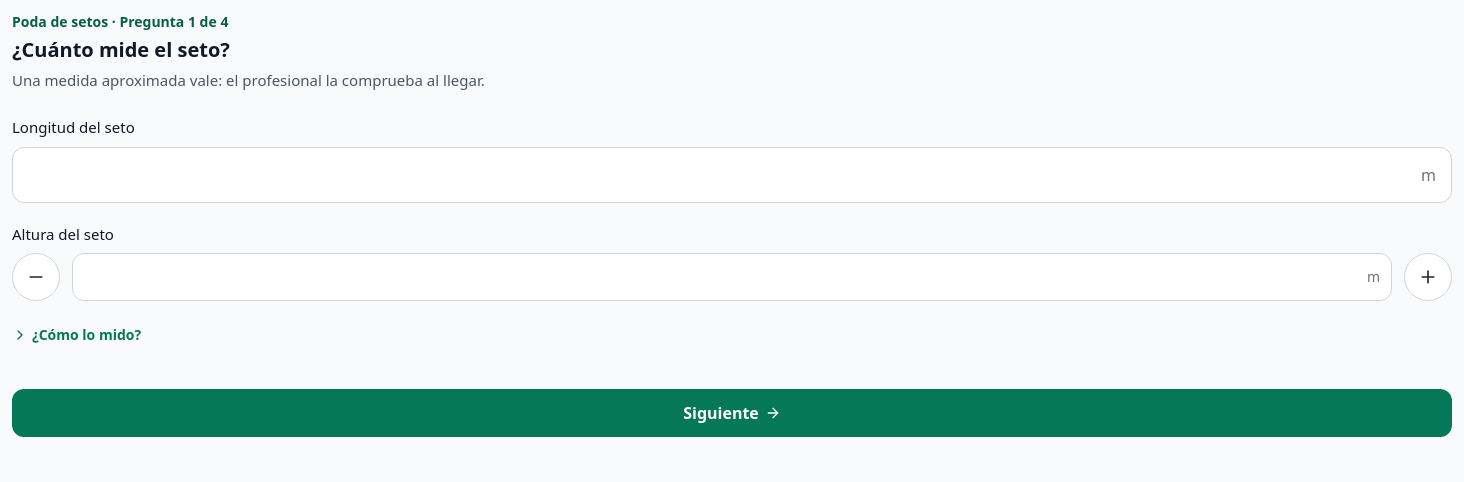
setos · medidas en una pantalla (D-05) › longitud y altura juntas; «Pregunta 1 de 4»; un «Siguiente» emite length y height en orden
Expected: the text "Una medida aproximada vale: el profesional la comprueba al llegar." is shown, [12,70,485,90]
Type "14" into the field labelled "Longitud del seto" at x=732, y=174, box [12,146,1452,202]
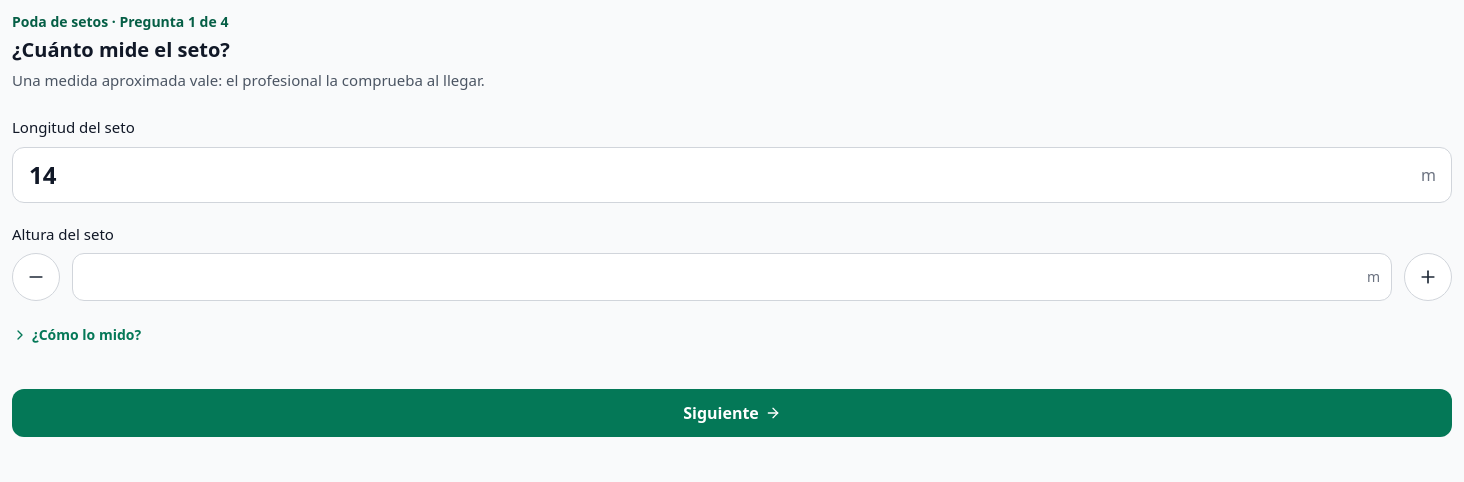
Type "2,1" into the field labelled "Altura del seto" at x=732, y=277, box [72,253,1392,301]
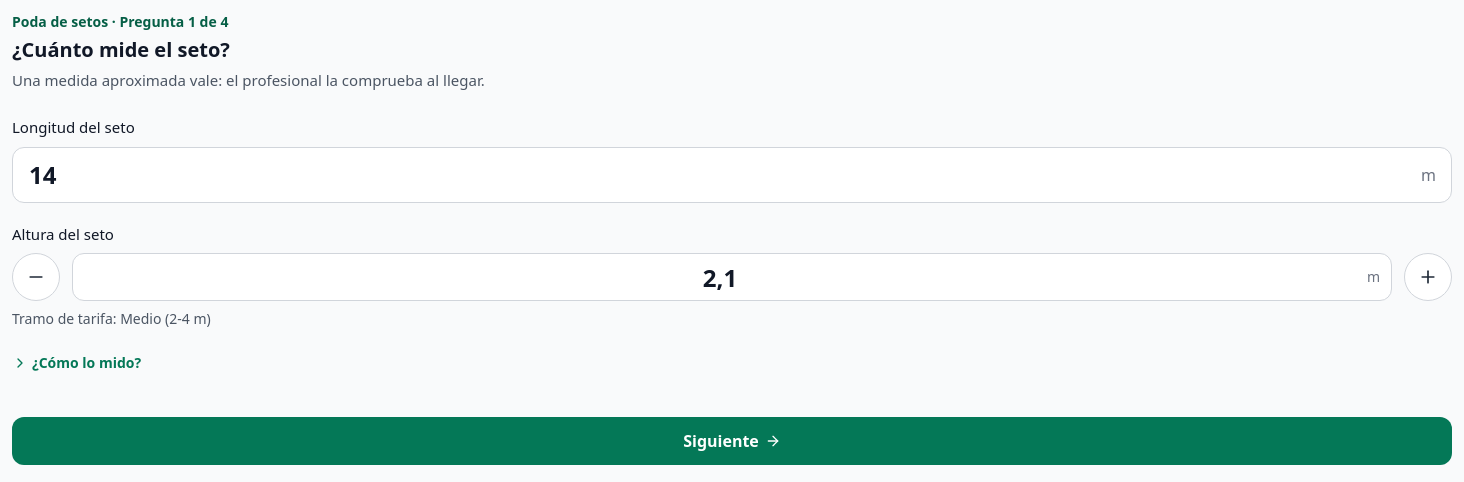
Click the button "Siguiente" at x=732, y=441, box [12,417,1452,465]
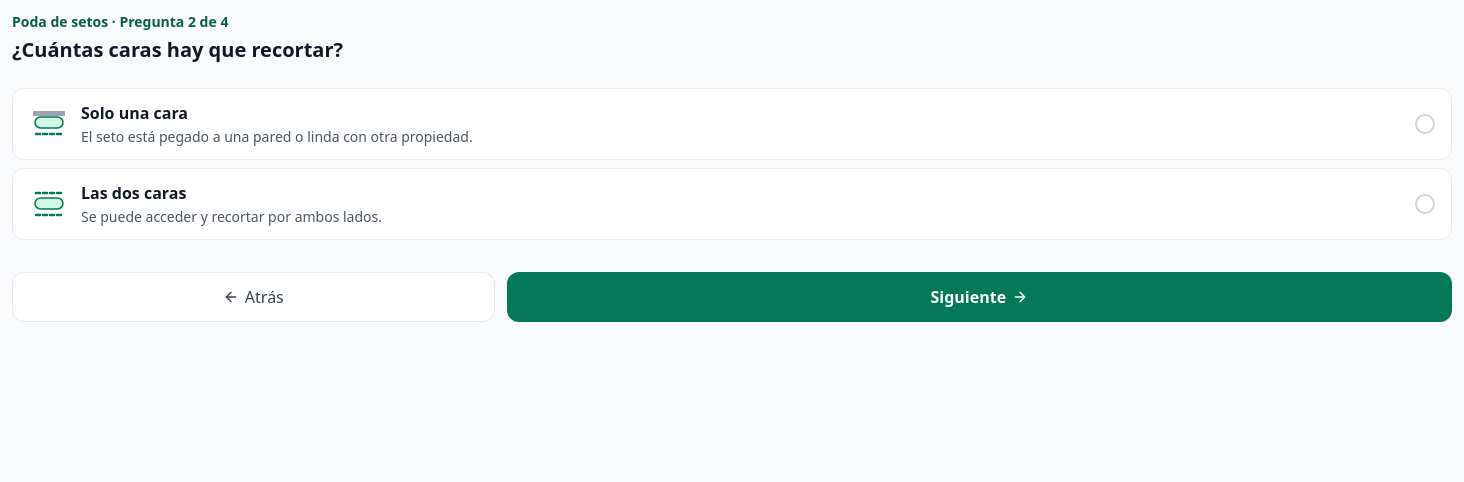
Now the heading reads "¿Cuántas caras hay que recortar?", box [12,36,343,63]
Now the text "Poda de setos · Pregunta 2 de 4" is shown, box [12,12,228,31]
